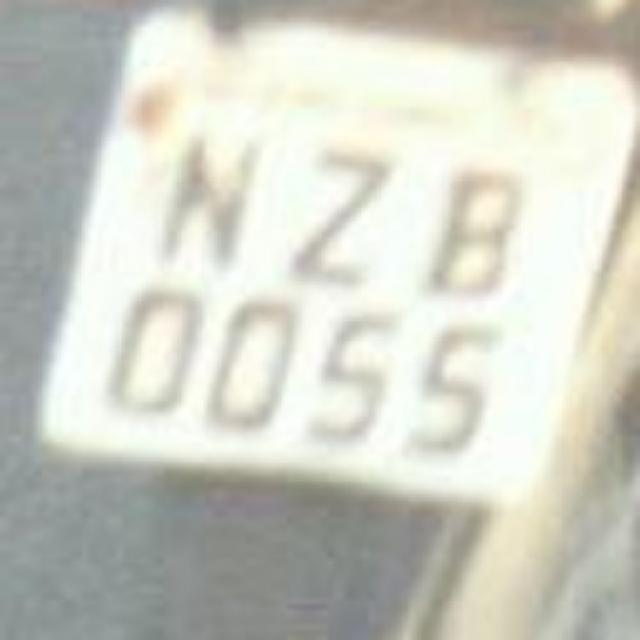0: (192, 268, 308, 448), (100, 256, 212, 432)
5: (388, 308, 512, 472), (288, 296, 404, 449)
B: (412, 145, 532, 320)
N: (140, 112, 265, 280)
Z: (276, 132, 396, 292)
